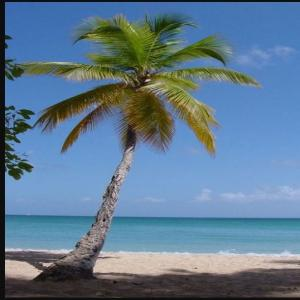palm tree: (16, 10, 262, 282)
